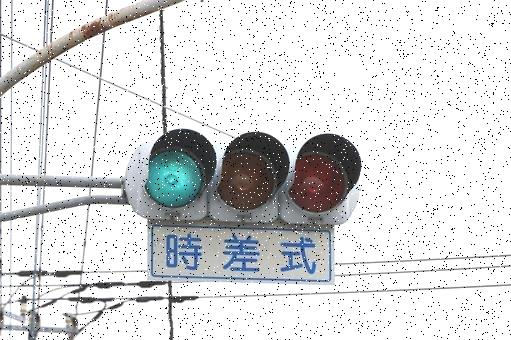cars: (125, 127, 363, 223)
